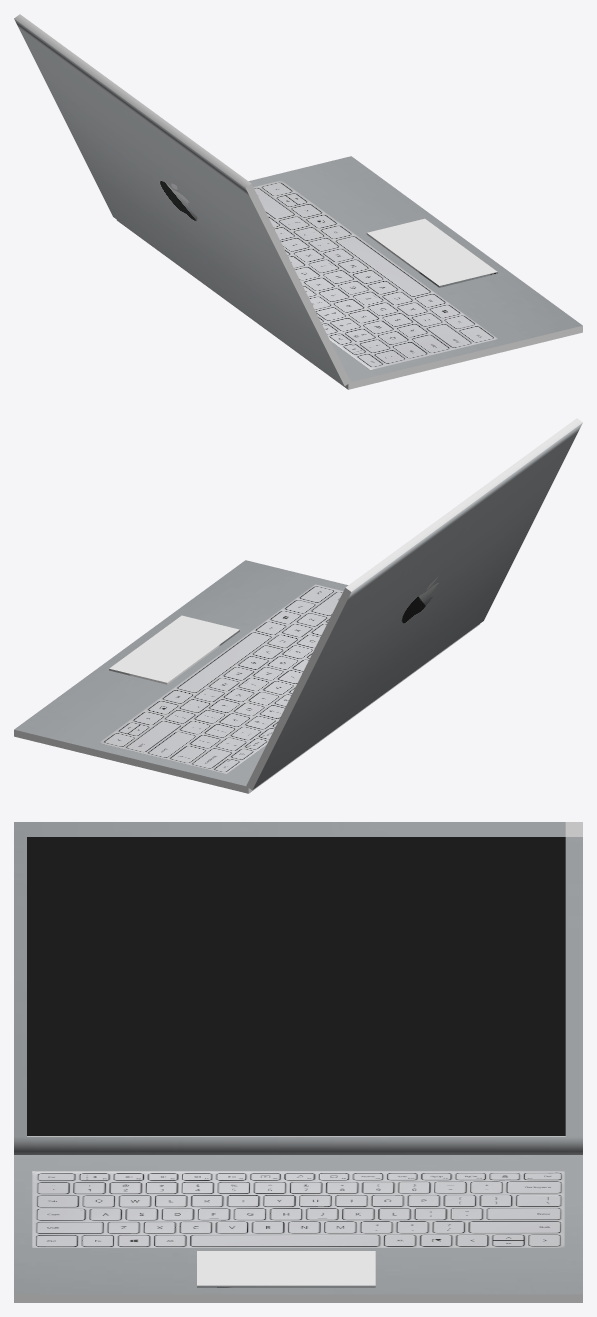
The model's file is laptop.fbx.
The picture shows the model from 3 angles, top to bottom: view 1: azimuth 30°, elevation 25°; view 2: azimuth 150°, elevation 25°; view 3: azimuth 270°, elevation 25°; orthographic projection. The views are drawn at different scales.
Visible parts, largest first — view 1: Cubo.096; view 2: Cubo.096; view 3: Cubo.096.
Part boxes in pixels (x1,y1,x2,y2): Cubo.096: (14,14,582,389); Cubo.096: (14,418,582,793); Cubo.096: (14,822,582,1302).
Size of the model in its own units: 15.38 by 10.01 by 18.29.
